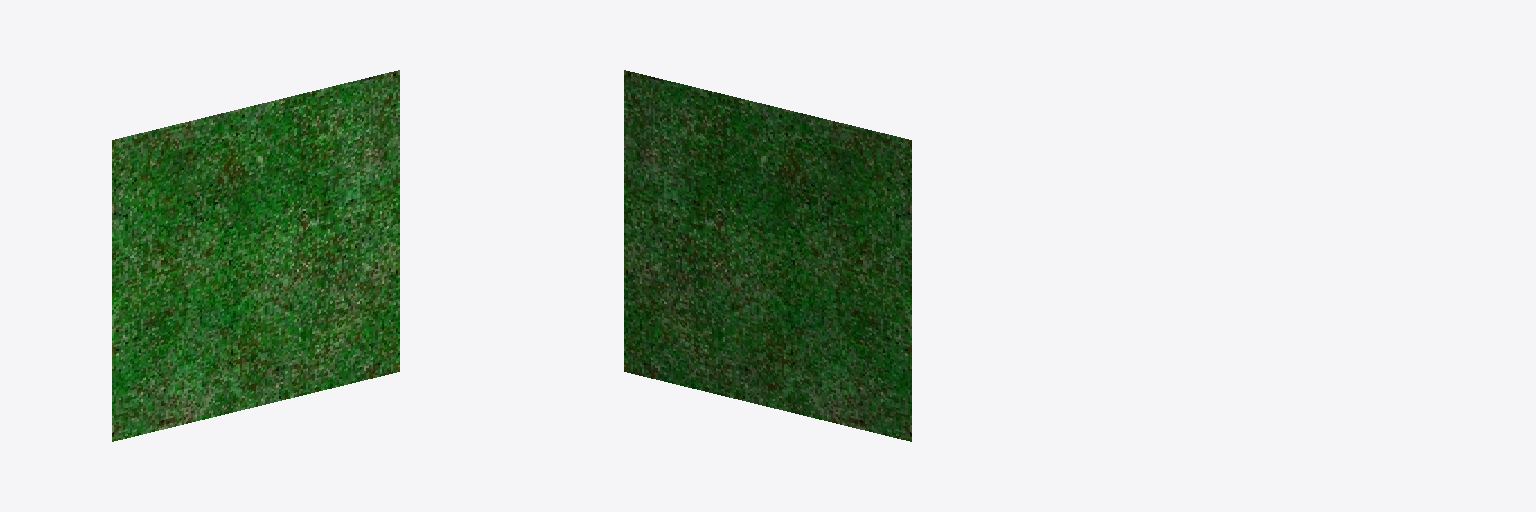
3 views of the same model, side by side, from view 1: azimuth 30°, elevation 25°; view 2: azimuth 150°, elevation 25°; view 3: azimuth 270°, elevation 25° (orthographic).
Size of the model in its own units: 1 by 1 by 0.
Materials: 1 (1 with a texture image).